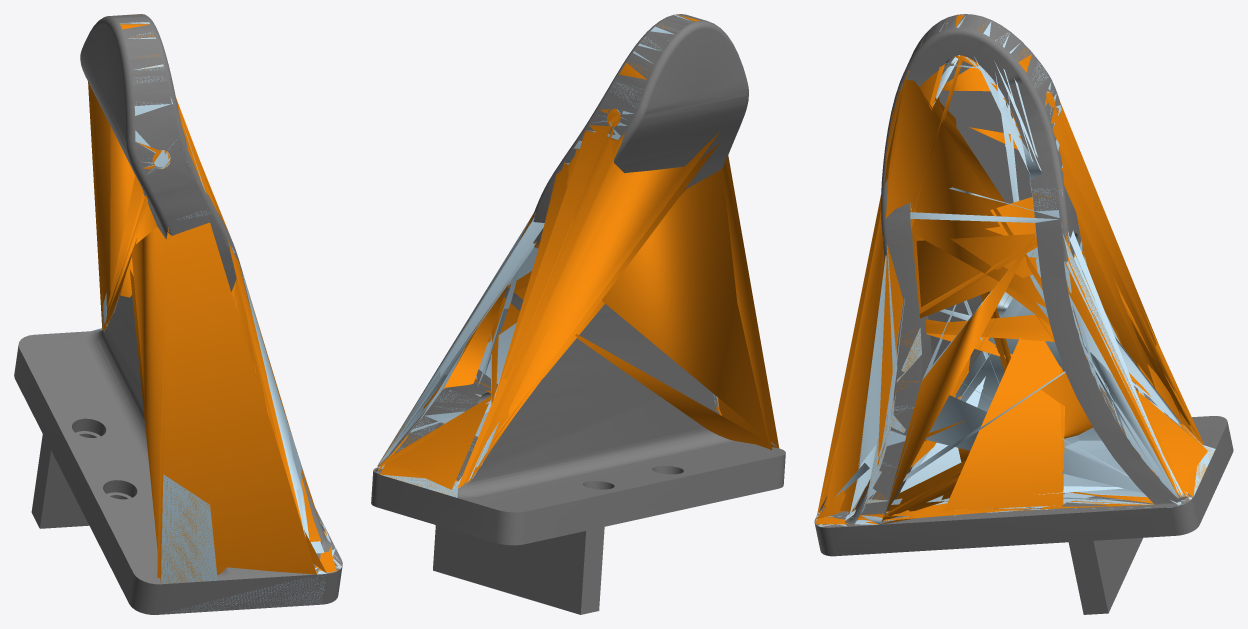
File: Mirrorlink7__1__1.dae
The picture shows the model from 3 angles, left to right: view 1: azimuth 30°, elevation 25°; view 2: azimuth 150°, elevation 25°; view 3: azimuth 270°, elevation 25°; orthographic projection. The views are drawn at different scales.
Parts seen in each view (by area): view 1: node2, node0, node1; view 2: node0, node2, node1; view 3: node2, node0, node1.
Boxes of the visible parts, x1,y1,x2,y2 form: node2: [88, 15, 341, 583]; node0: [14, 14, 342, 614]; node1: [91, 14, 341, 614]; node0: [371, 14, 785, 614]; node2: [377, 15, 779, 496]; node1: [376, 14, 778, 497]; node2: [815, 15, 1214, 526]; node0: [814, 14, 1233, 614]; node1: [815, 16, 1215, 526].
Bounding box in the file's own units: 0.0417 × 0.088 × 0.0647.
